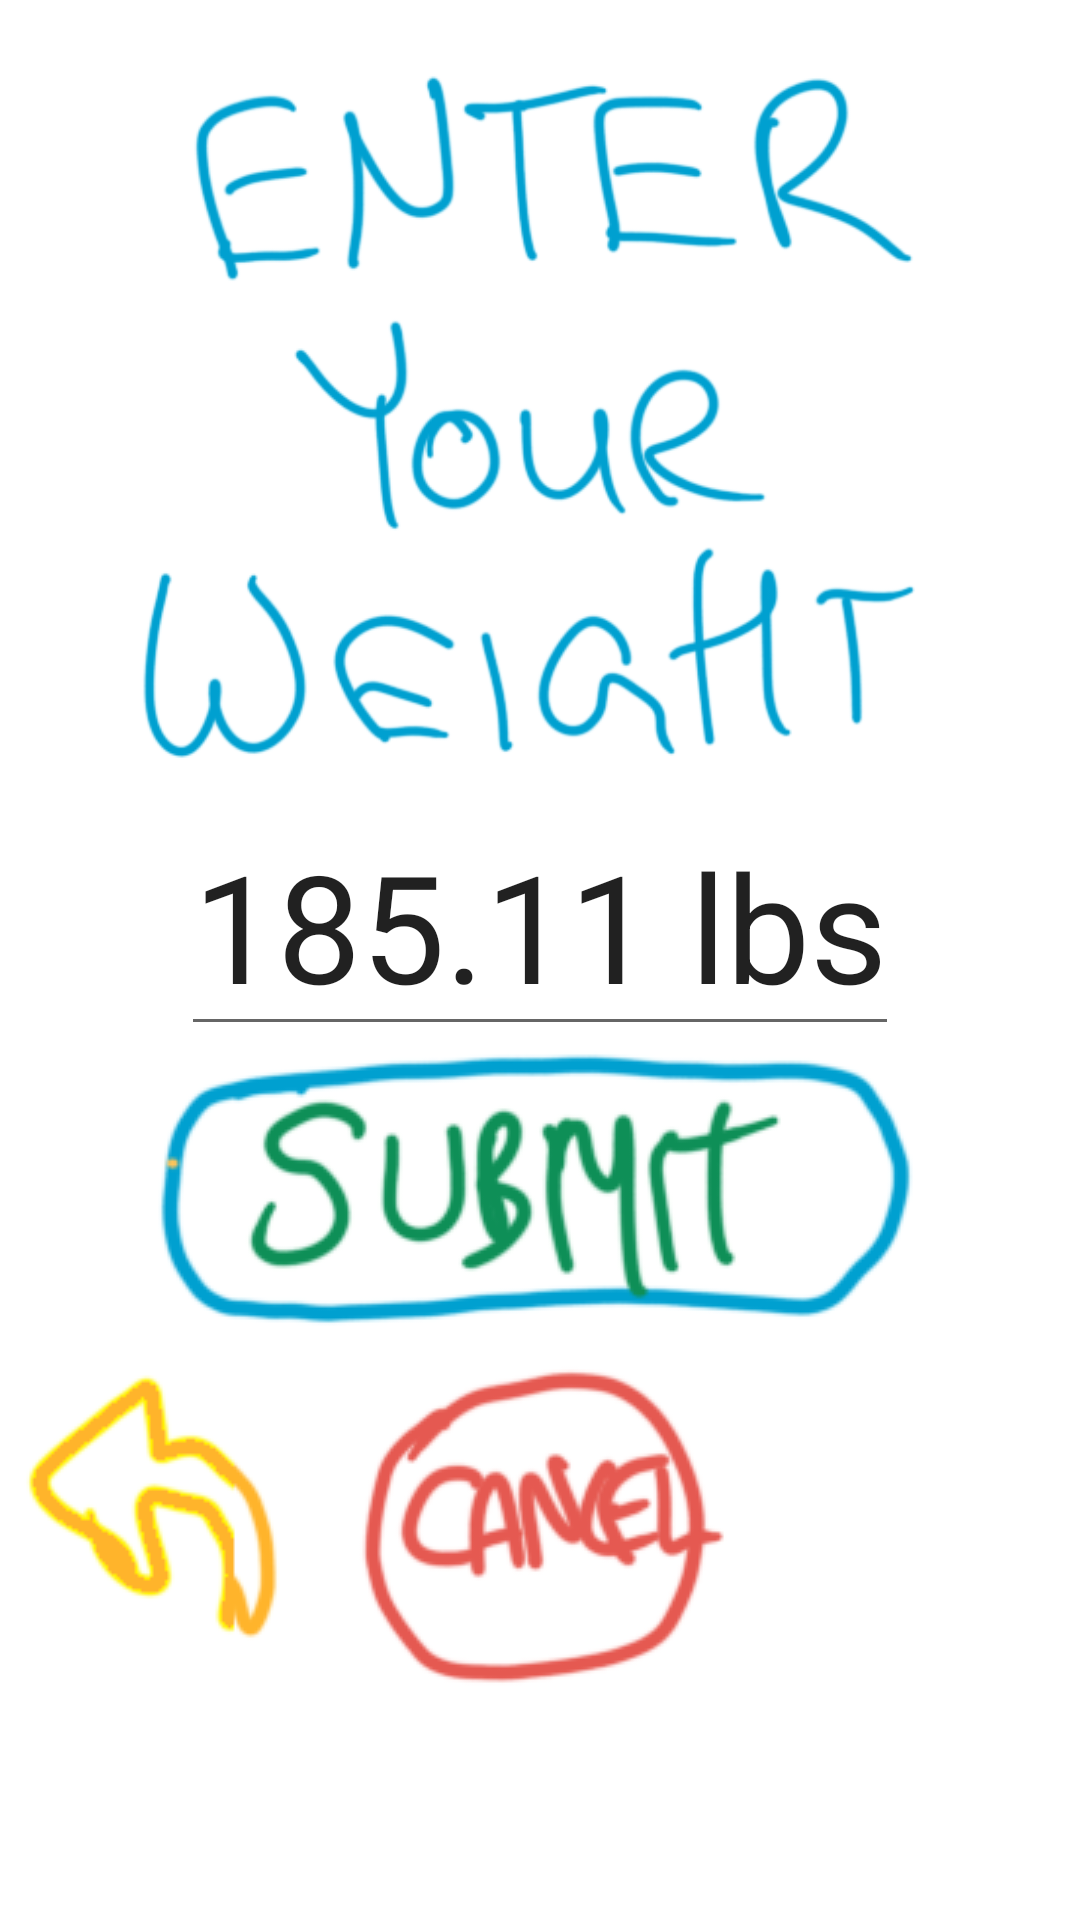

Screen size 1080*1920. Icon name, then its box in pixels as rect(x1, y1, x2, y2):
go back: rect(28, 1376, 277, 1638)
